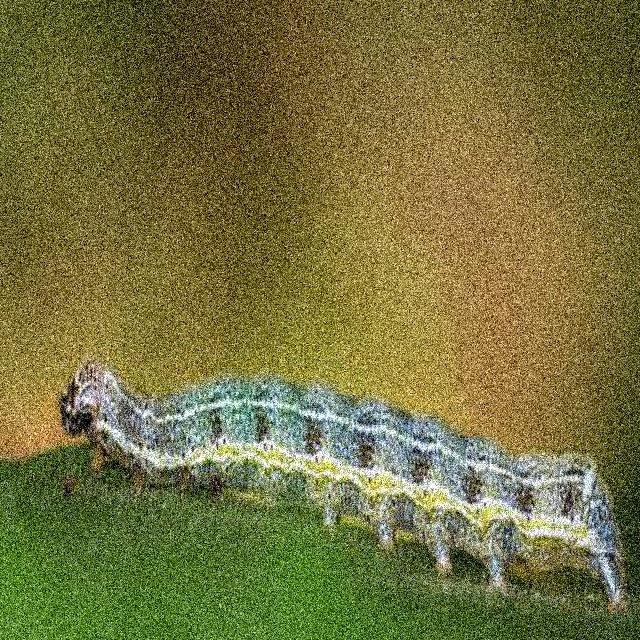Plaga: (60, 361, 623, 604)
